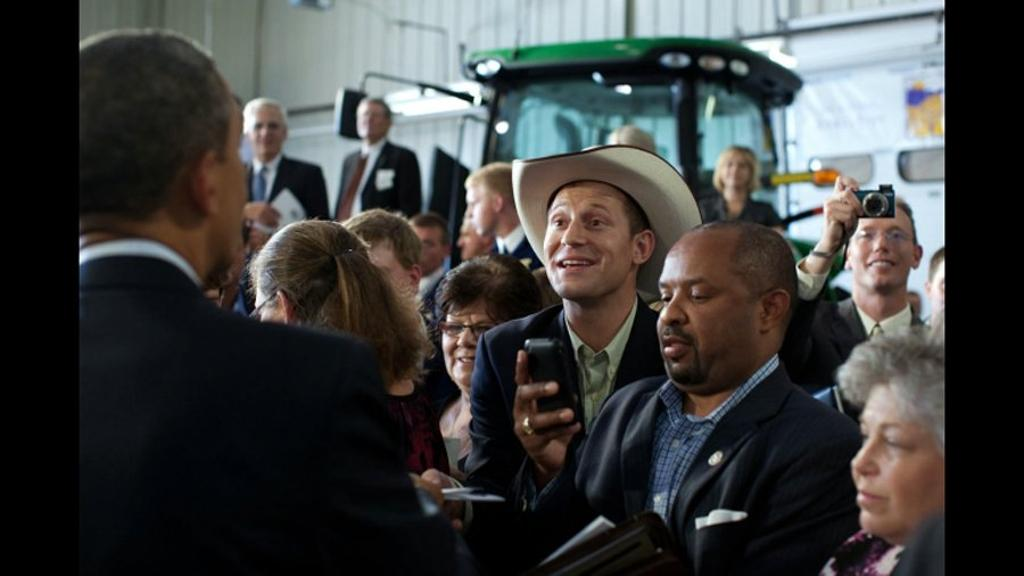face: (656, 259, 754, 380), (851, 405, 937, 535), (544, 196, 630, 296), (187, 119, 246, 261), (851, 208, 912, 286), (340, 250, 408, 318), (442, 308, 501, 379), (467, 187, 499, 236), (409, 232, 442, 272), (249, 116, 282, 154), (456, 222, 482, 260), (356, 104, 382, 137), (722, 158, 746, 186)
